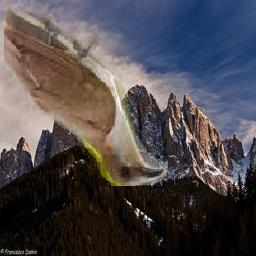Cuckoo: (4, 4, 168, 186)
